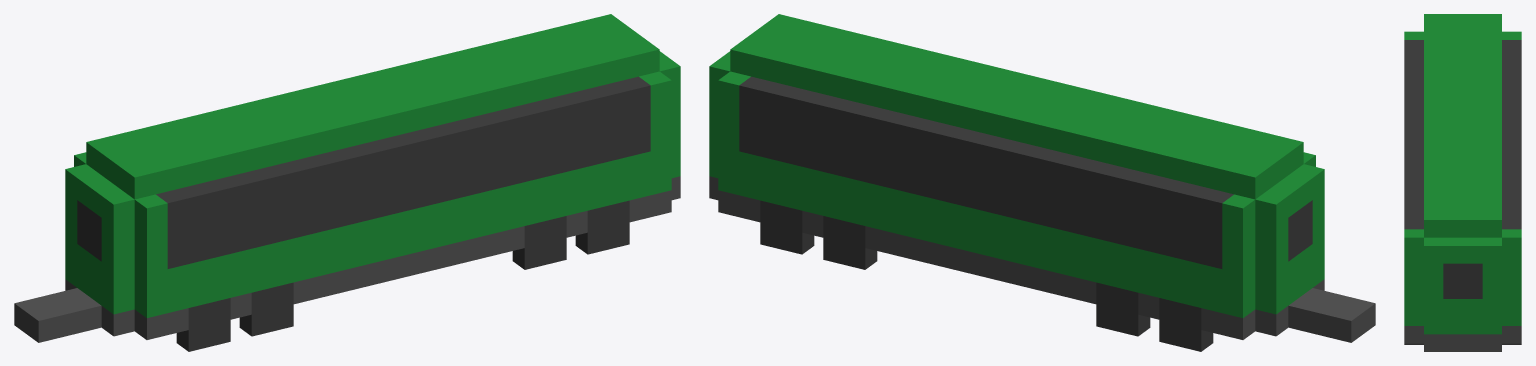
The model's file is train-trailer-v1-green.gltf.
The picture shows the model from 3 angles, left to right: view 1: azimuth 30°, elevation 25°; view 2: azimuth 150°, elevation 25°; view 3: azimuth 270°, elevation 25°; orthographic projection. The views are drawn at different scales.
Visible parts, largest first — view 1: model, wheels; view 2: model, wheels; view 3: model.
Boxes of the visible parts, box(x1,y1,x2,y2) form: model: box(14, 14, 680, 342); wheels: box(176, 200, 629, 351); model: box(709, 14, 1375, 342); wheels: box(760, 200, 1213, 351); model: box(1404, 14, 1521, 351).
Bounding box in the file's own units: 3 × 0.8 × 0.6.
Materials: 2 (2 with a texture image).
